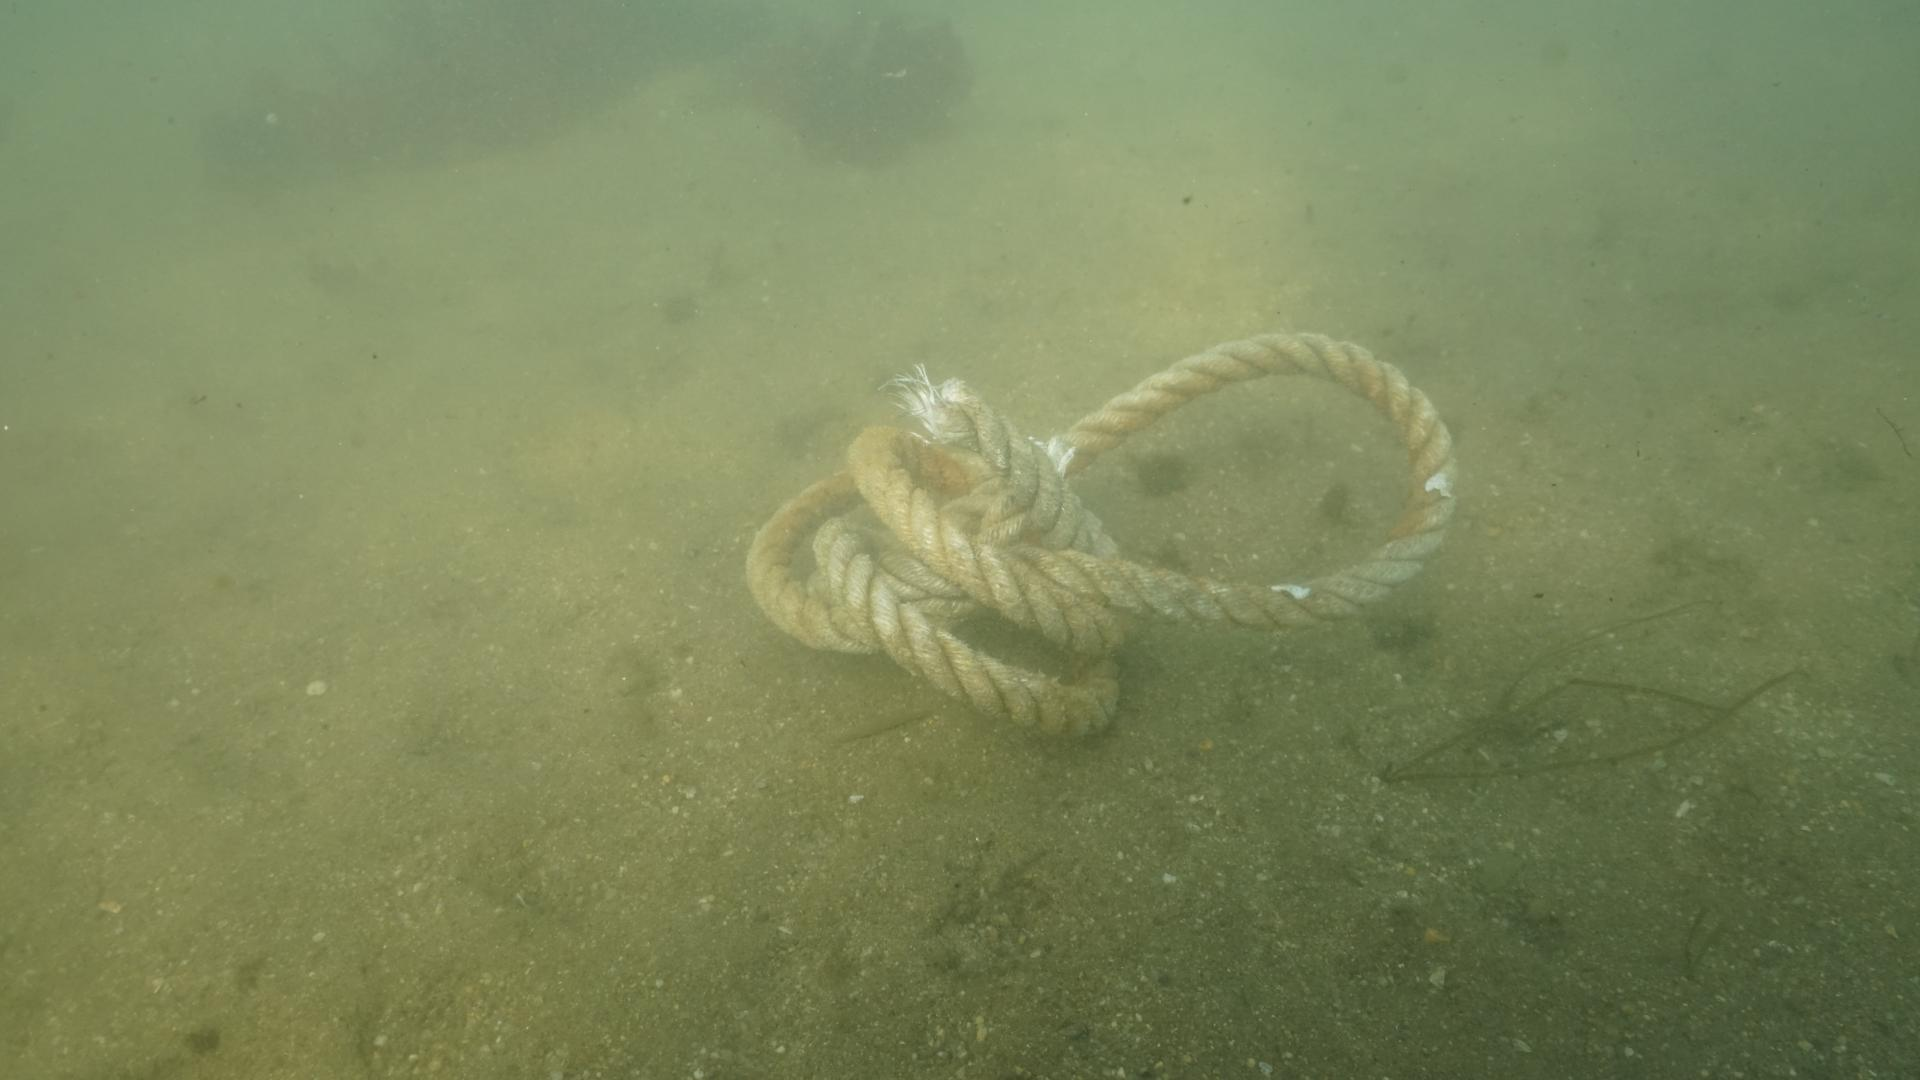bundle of ropes: (742, 324, 1466, 742)
